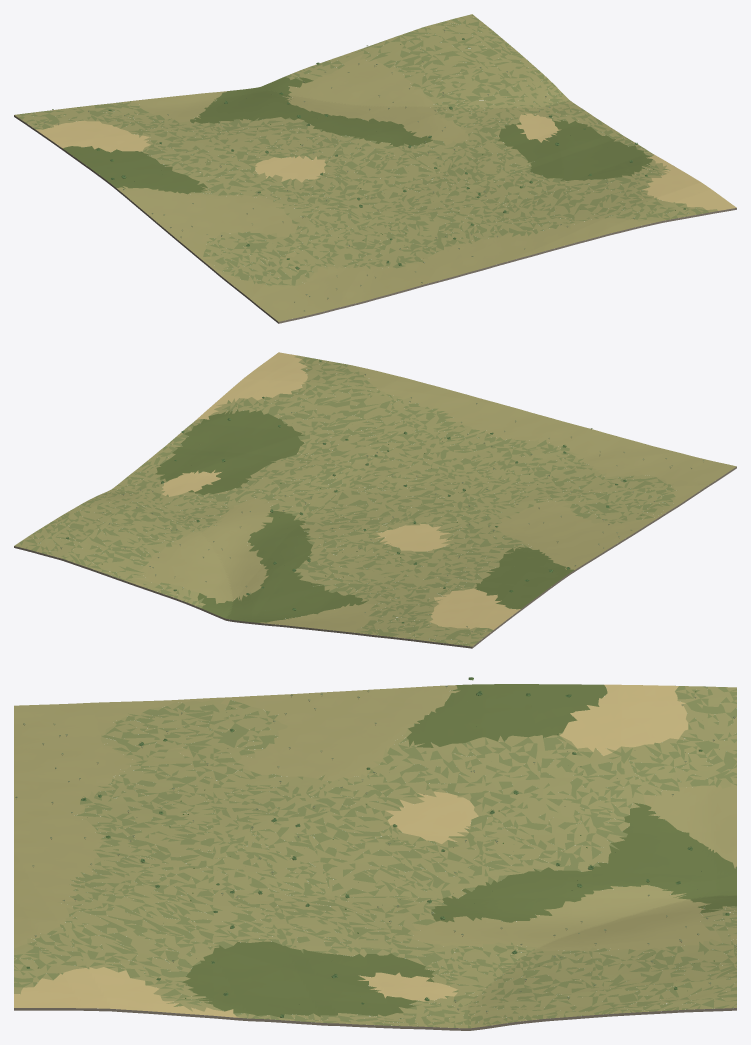
The model's file is parca_+2_+0-yakin.glb.
3 renders of one model, top to bottom at view 1: azimuth 30°, elevation 25°; view 2: azimuth 150°, elevation 25°; view 3: azimuth 270°, elevation 25°, orthographic. The views are drawn at different scales.
Parts seen in each view (by area): view 1: parca_+2_+0_arazi, parca_+2_+0_bitkiler; view 2: parca_+2_+0_arazi, parca_+2_+0_bitkiler; view 3: parca_+2_+0_arazi, parca_+2_+0_bitkiler.
Part boxes in pixels (<box>): parca_+2_+0_arazi: <box>14,14,736,323</box>; parca_+2_+0_bitkiler: <box>35,30,685,311</box>; parca_+2_+0_arazi: <box>14,352,736,648</box>; parca_+2_+0_bitkiler: <box>60,360,703,641</box>; parca_+2_+0_arazi: <box>14,684,736,1030</box>; parca_+2_+0_bitkiler: <box>15,677,736,1018</box>.
Size of the model in its own units: 1001 by 86.84 by 1000.
